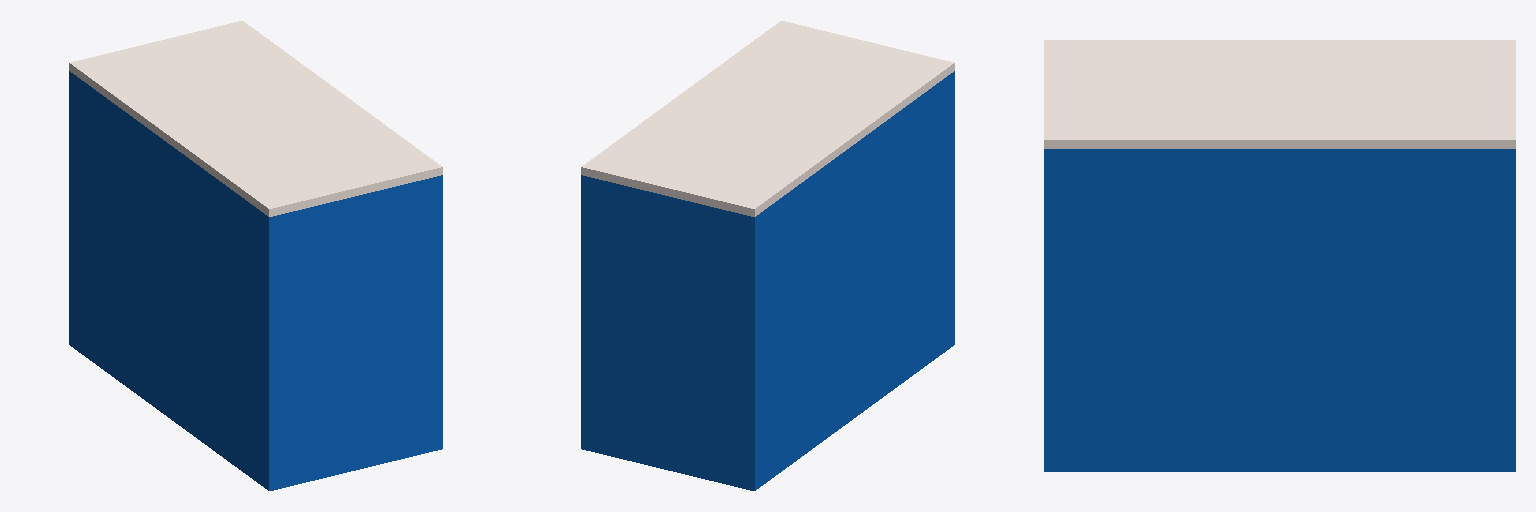
URDF robot description (toyama-900-sidetable):
<?xml version="1.0"?>
<robot name="toyama-900-sidetable"
       xmlns:xi="http://www.w3.org/2001/XInclude"
       xmlns:gazebo="http://playerstage.sourceforge.net/gazebo/xmlschema/#gz"
       xmlns:model="http://playerstage.sourceforge.net/gazebo/xmlschema/#model"
       xmlns:sensor="http://playerstage.sourceforge.net/gazebo/xmlschema/#sensor"
       xmlns:body="http://playerstage.sourceforge.net/gazebo/xmlschema/#body"
       xmlns:geom="http://playerstage.sourceforge.net/gazebo/xmlschema/#geom"
       xmlns:joint="http://playerstage.sourceforge.net/gazebo/xmlschema/#joint"
       xmlns:interface="http://playerstage.sourceforge.net/gazebo/xmlschema/#interface"
       xmlns:rendering="http://playerstage.sourceforge.net/gazebo/xmlschema/#rendering"
       xmlns:renderable="http://playerstage.sourceforge.net/gazebo/xmlschema/#renderable"
       xmlns:controller="http://playerstage.sourceforge.net/gazebo/xmlschema/#controller"
       xmlns:physics="http://playerstage.sourceforge.net/gazebo/xmlschema/#physics">
  <gazebo>
    <static>false</static>
  </gazebo>
  <link name="nil_link">
    <visual>
      <origin xyz="0 0 0" rpy="0 -0 0"/>
      <geometry>
        <mesh filename="model://toyama-900-sidetable/meshes/nil_link_mesh.dae" scale="1 1 1" />
      </geometry>
    </visual>
    <collision>
      <origin xyz="0 0 0" rpy="0 -0 0"/>
      <geometry>
        <mesh filename="model://toyama-900-sidetable/meshes/nil_link_mesh.dae" scale="1 1 1" />
      </geometry>
    </collision>
    <inertial>
      <mass value="0.001" />
      <origin xyz="0 0 0" rpy="0 -0 0"/>
      <inertia ixx="1e-09" ixy="0" ixz="0" iyy="1e-09" iyz="0" izz="1e-09"/>
    </inertial>
  </link>
  <gazebo reference="nil_link">
    <mu1>0.9</mu1>
    <mu2>0.9</mu2>
  </gazebo>
</robot>

--- Facts derived from the render (not from the file) ---
3 views of the same robot in one strip: view 1: azimuth 30°, elevation 25°; view 2: azimuth 150°, elevation 25°; view 3: azimuth 270°, elevation 25° (orthographic).
Robot: toyama-900-sidetable — 1 links, 0 joints (none); root link nil_link; default pose: all joints at 0.
Visible links, largest first — view 1: nil_link; view 2: nil_link; view 3: nil_link.
Link boxes in pixels (bbox=[...]): nil_link: bbox=[69, 21, 442, 490]; nil_link: bbox=[581, 21, 954, 490]; nil_link: bbox=[1044, 40, 1515, 471].
Size in the robot's own frame: 0.45 by 0.9 by 0.7 metres.
1 mesh visuals loaded from 1 distinct referenced files (1 Collada DAE).
